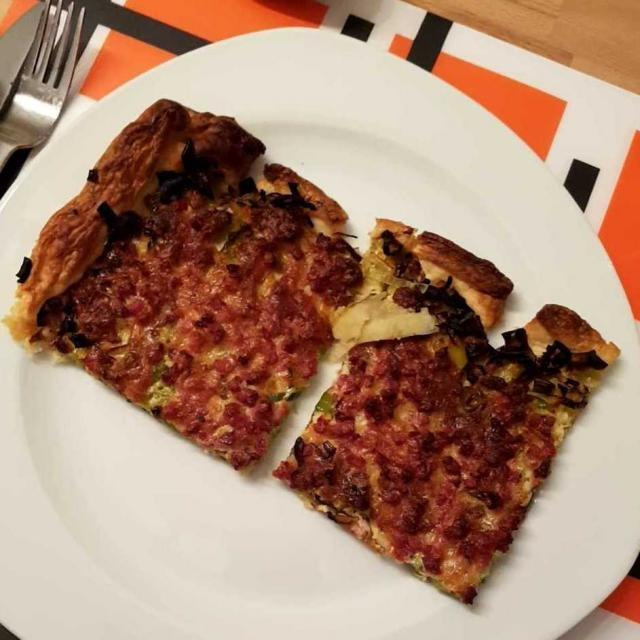vegetables-stuffed-pie: (1, 101, 622, 600)
